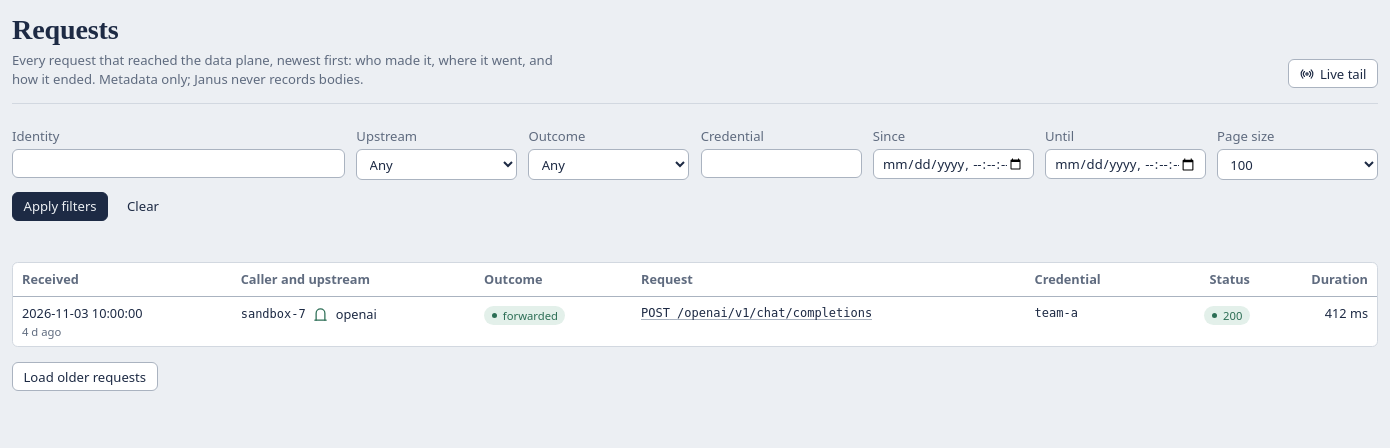
Test: Requests view › pages back through older records with the cursor
This screenshot has width=1390, height=448.
Click the button "Load older requests" at [85, 377], box [12,362,158,391]
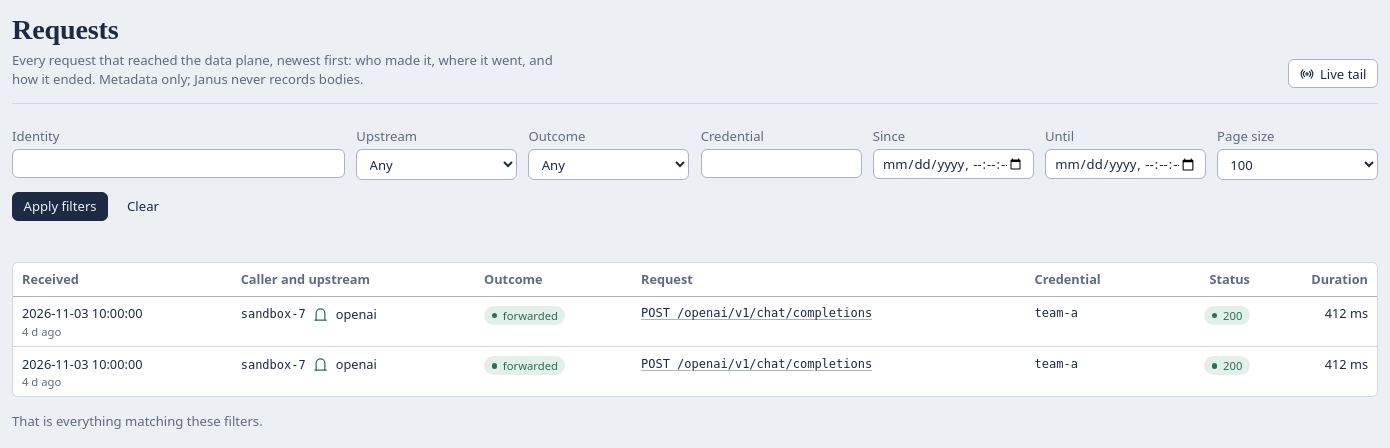
Expected: the text "That is everything matching these filters." is shown, [12,412,263,431]
